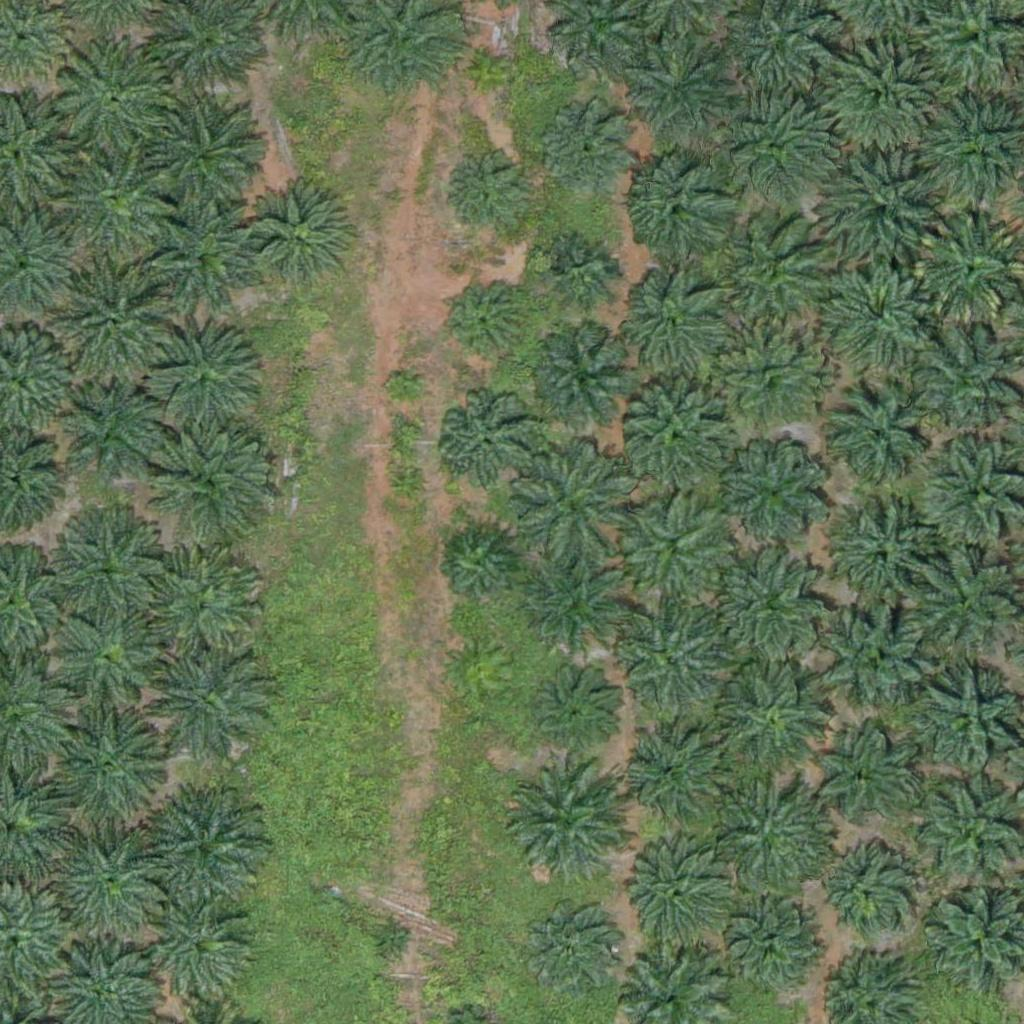Kelapa_Sawit: (140, 96, 265, 222), (146, 317, 271, 443), (145, 413, 270, 539), (47, 265, 172, 391), (54, 137, 179, 263), (46, 40, 171, 166), (507, 439, 632, 565), (46, 505, 171, 631), (140, 543, 265, 669), (47, 826, 172, 952), (42, 705, 167, 831), (144, 643, 269, 769), (140, 788, 265, 914), (500, 759, 625, 885), (712, 774, 837, 899), (716, 215, 829, 328), (710, 321, 823, 434), (622, 382, 735, 495), (612, 266, 725, 379), (622, 150, 735, 263), (627, 32, 740, 145), (243, 185, 356, 298), (53, 383, 166, 496), (720, 432, 833, 545), (828, 502, 941, 615), (715, 547, 828, 660), (715, 660, 828, 773), (813, 598, 926, 711), (824, 41, 936, 155), (149, 199, 261, 313), (907, 549, 1019, 663), (821, 380, 933, 493), (821, 256, 933, 369), (828, 154, 940, 267), (719, 89, 831, 202), (620, 498, 732, 611), (521, 549, 633, 662), (616, 605, 728, 718), (618, 838, 730, 951), (909, 662, 1021, 775), (540, 100, 640, 201), (532, 331, 632, 432), (151, 903, 251, 1004), (521, 898, 621, 999), (624, 726, 724, 827), (722, 898, 822, 999), (812, 726, 912, 827), (814, 843, 914, 944), (436, 394, 536, 494), (58, 613, 158, 713), (445, 152, 533, 240), (443, 280, 531, 368), (533, 663, 620, 751), (442, 528, 517, 604), (544, 235, 619, 310), (478, 51, 516, 89), (372, 920, 410, 958), (386, 371, 423, 409)
